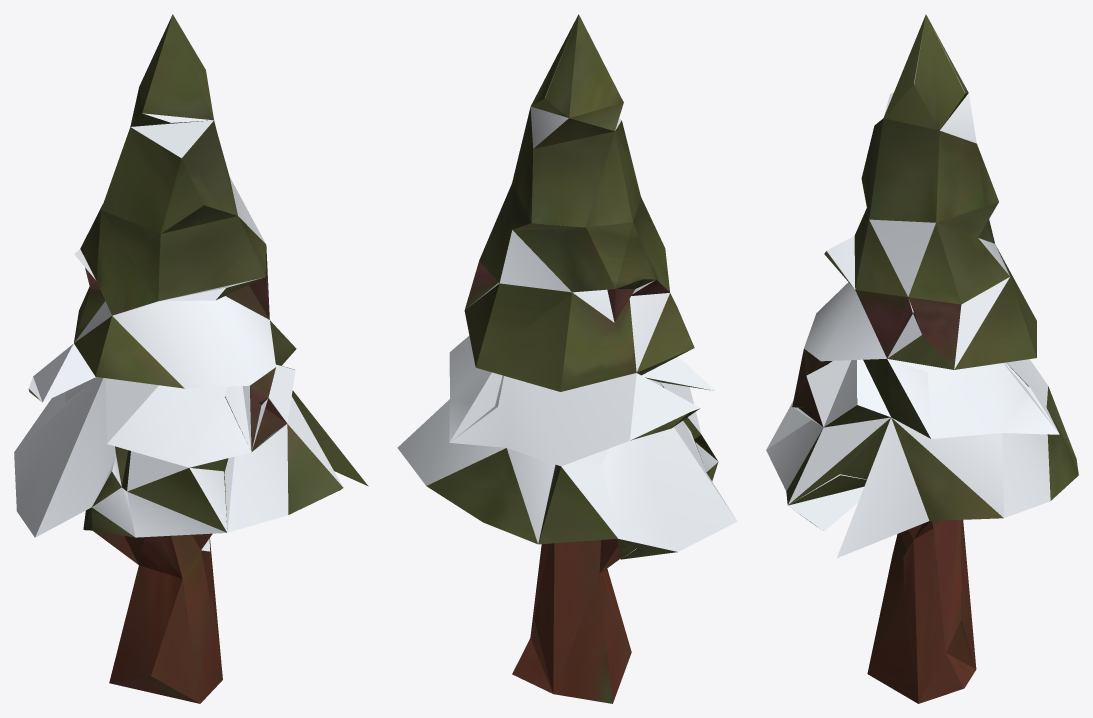
The model's file is bg_snow_pine_1_lod1.glb.
3 renders of one model, left to right at view 1: azimuth 30°, elevation 25°; view 2: azimuth 150°, elevation 25°; view 3: azimuth 270°, elevation 25°, orthographic.
Parts seen in each view (by area): view 1: sway, body; view 2: sway, body; view 3: sway, body.
Boxes of the visible parts, x1,y1,x2,y2 form: sway: (14, 14, 368, 537); body: (74, 246, 286, 703); sway: (397, 14, 737, 559); body: (465, 260, 669, 703); sway: (766, 14, 1078, 557); body: (792, 290, 976, 703).
Bounding box in the file's own units: 2.73 × 5.87 × 2.49.
2 materials, 1 textured.
